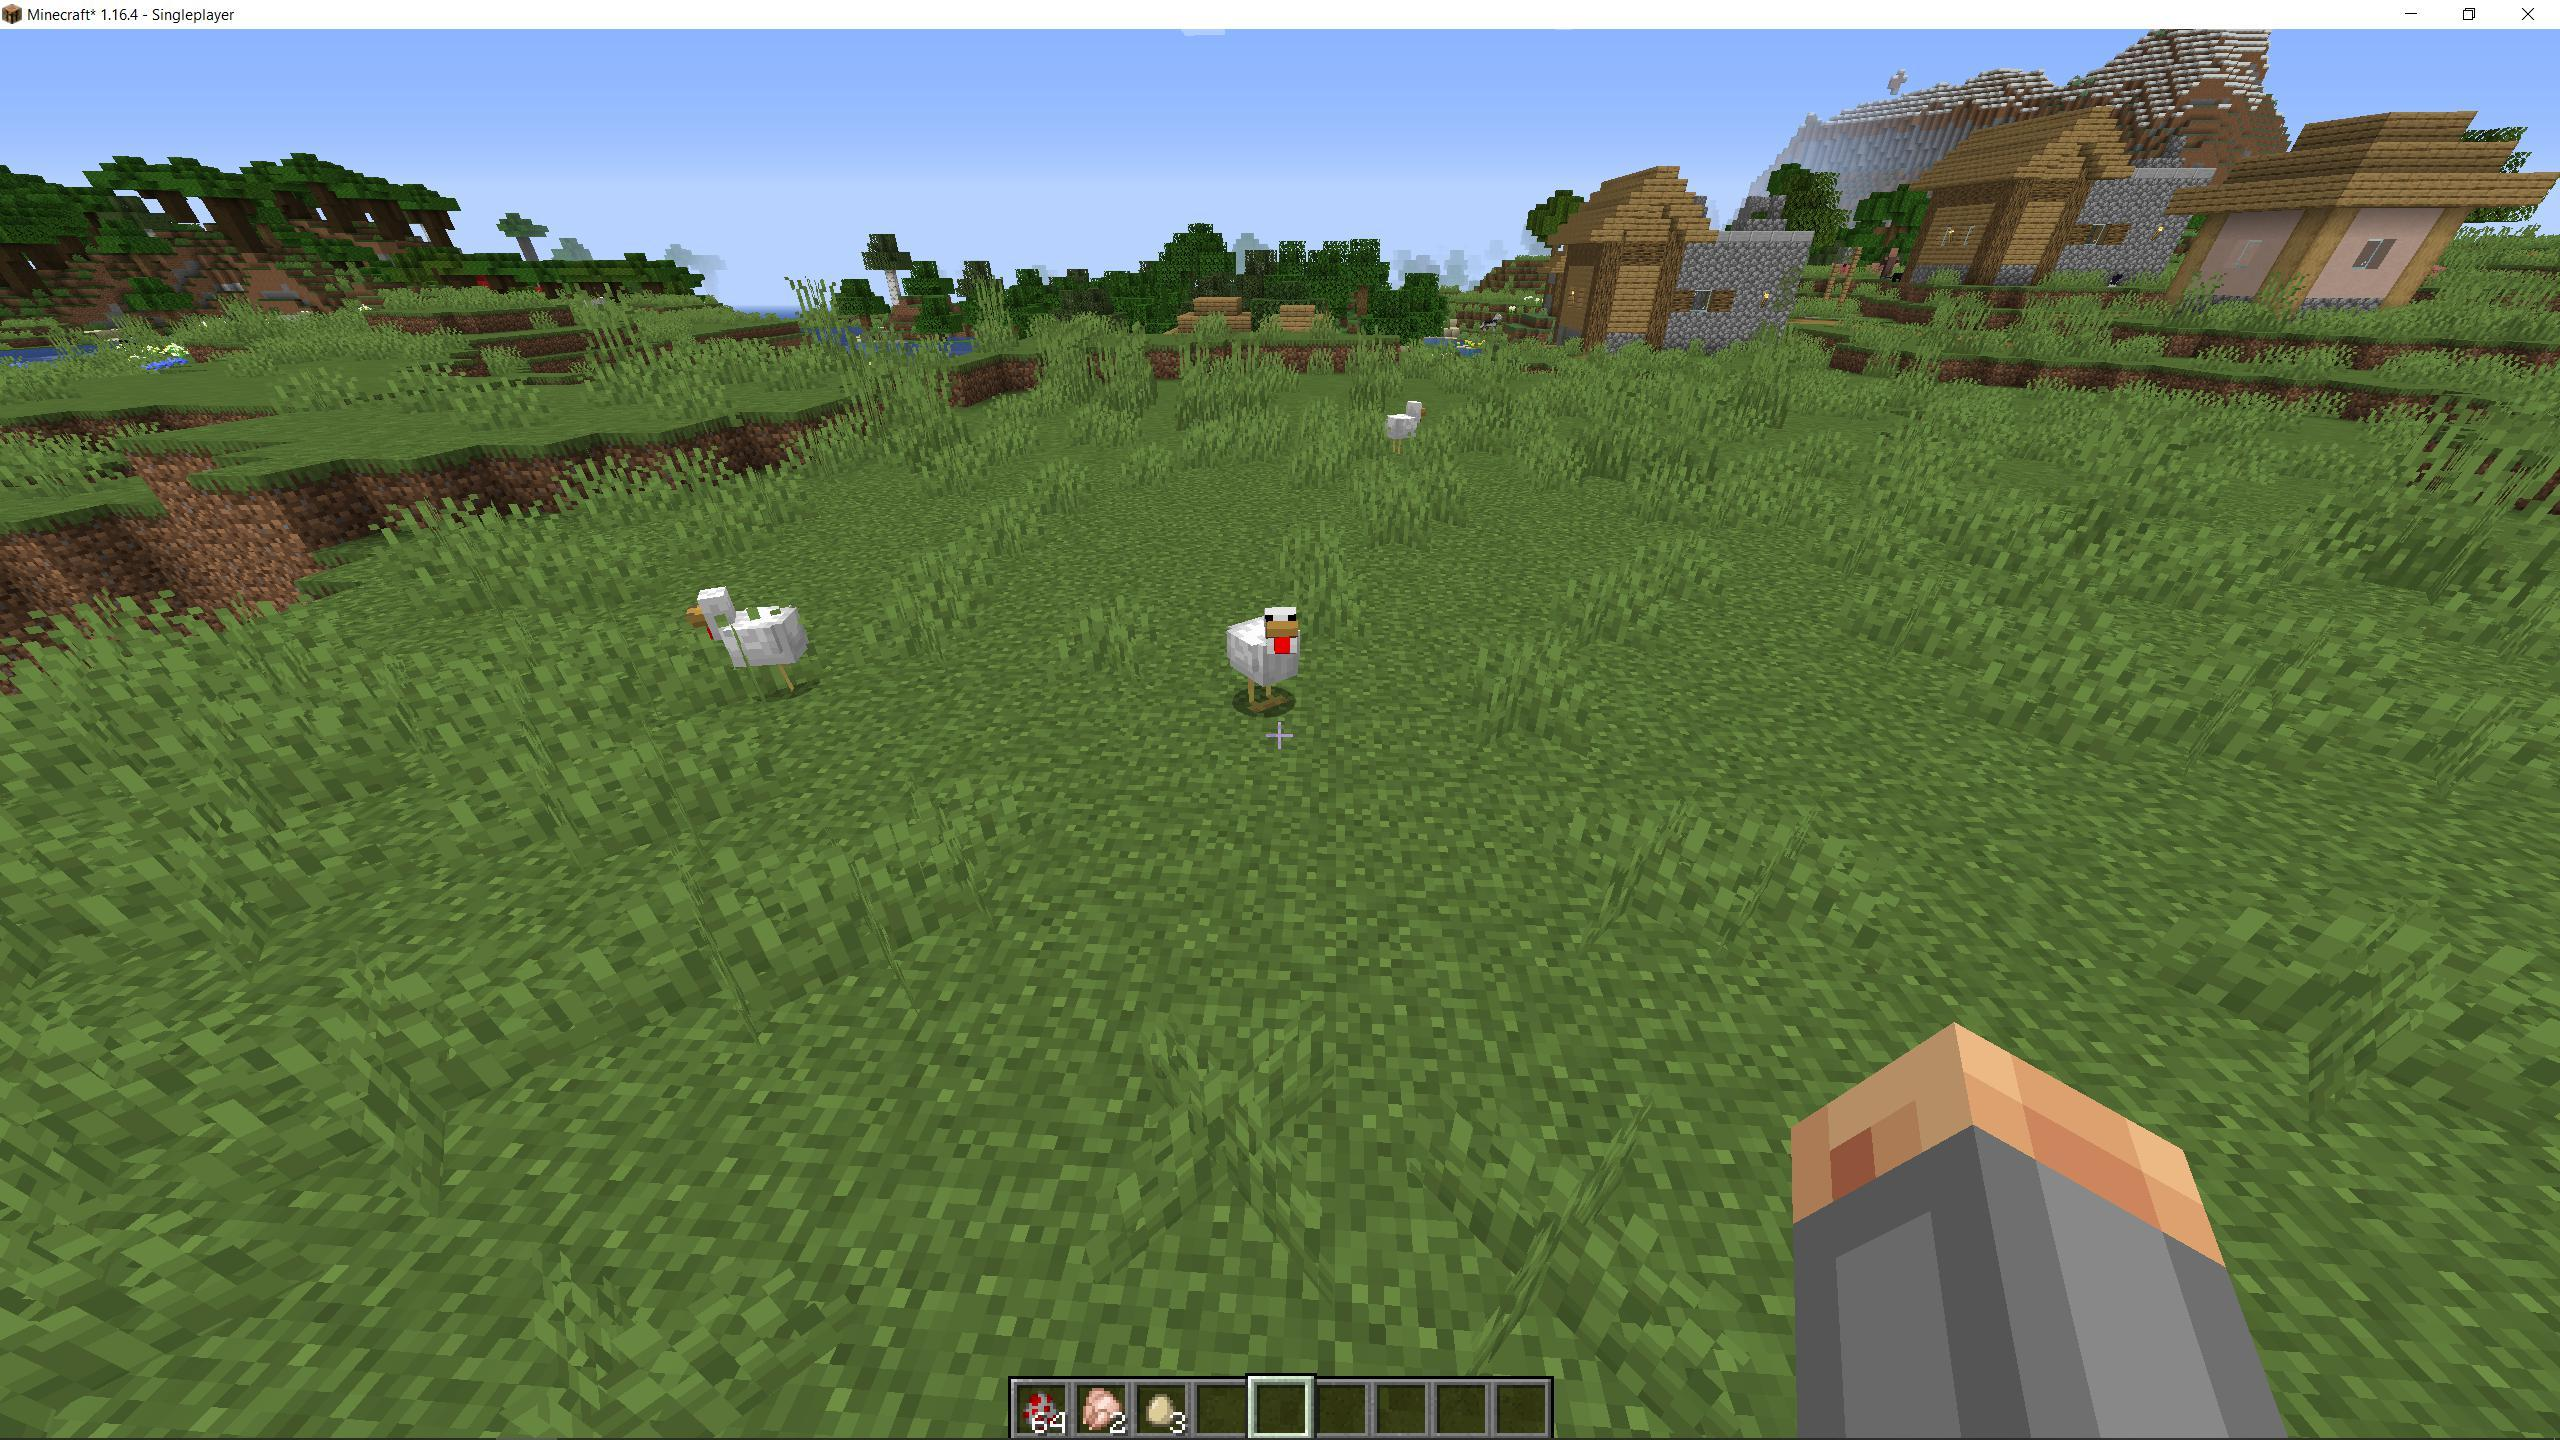chicken: (675, 573, 821, 702), (1211, 587, 1305, 724), (1378, 399, 1429, 461)
